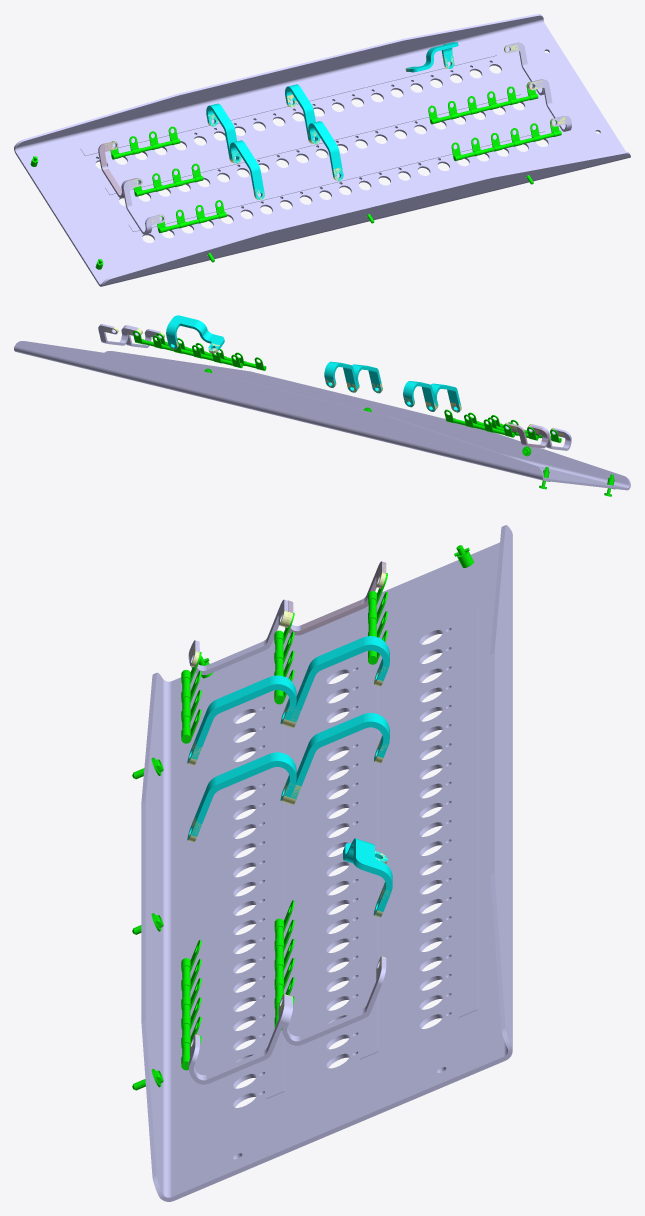
The picture shows the model from 3 angles, top to bottom: view 1: azimuth 30°, elevation 25°; view 2: azimuth 150°, elevation 25°; view 3: azimuth 270°, elevation 25°; orthographic projection. The views are drawn at different scales.
Visible parts, largest first — view 1: PartBody (×18); view 2: PartBody (×14); view 3: PartBody (×18).
Part boxes in pixels (x1=…): PartBody (×18): x1=14, y1=14, x2=630, y2=286; PartBody (×14): x1=14, y1=315, x2=630, y2=490; PartBody (×18): x1=141, y1=525, x2=512, y2=1201.
Bounding box in the file's own units: 23.5 × 4.72 × 7.32.
